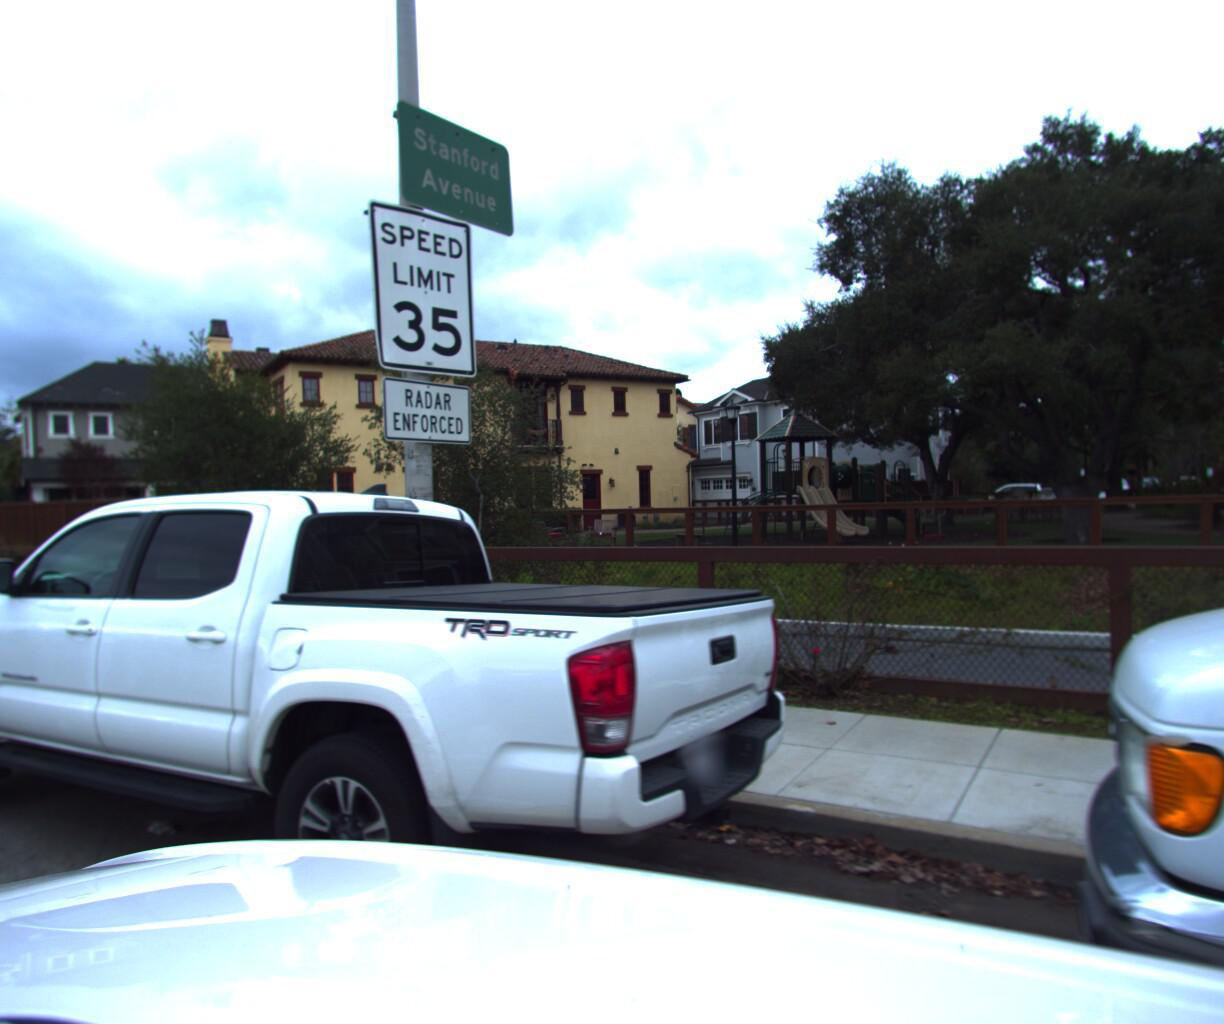car: (0, 472, 783, 1024)
